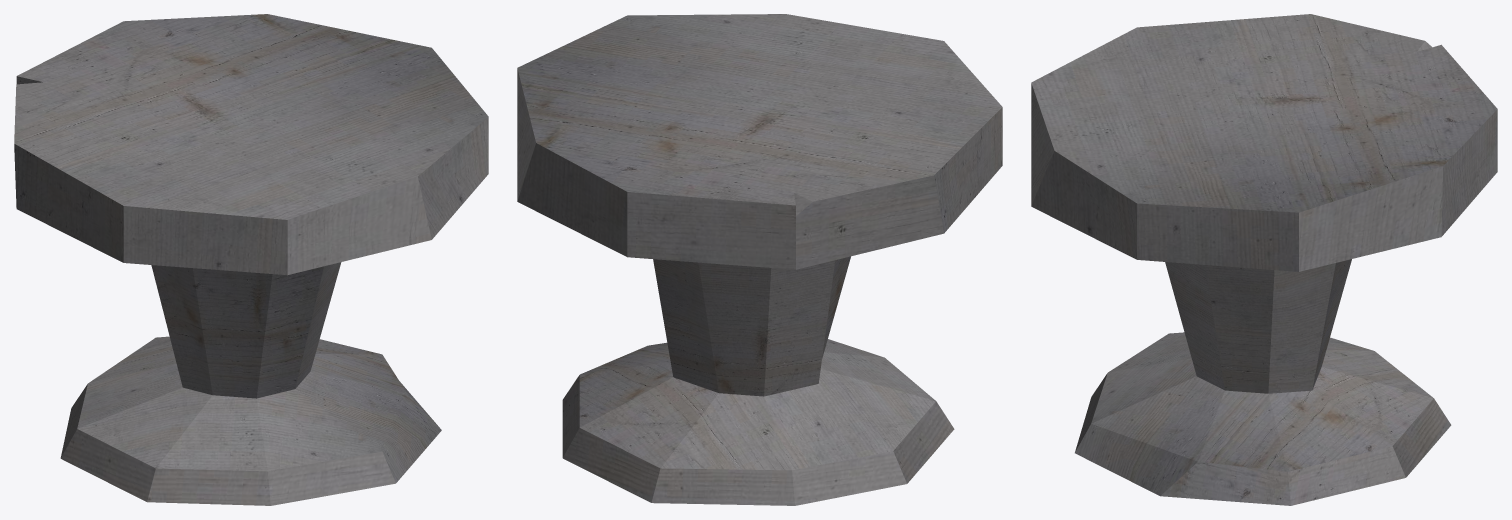
File: stool.glb
The picture shows the model from 3 angles, left to right: view 1: azimuth 30°, elevation 25°; view 2: azimuth 150°, elevation 25°; view 3: azimuth 270°, elevation 25°; orthographic projection. The views are drawn at different scales.
Parts seen in each view (by area): view 1: stool; view 2: stool; view 3: stool.
Boxes of the visible parts, left/top/right/bottom form: stool: left=14, top=14, right=488, bottom=505; stool: left=517, top=14, right=1002, bottom=505; stool: left=1031, top=14, right=1497, bottom=505.
Bounding box in the file's own units: 0.5909 × 0.435 × 0.5819.
1 material, 1 textured.
